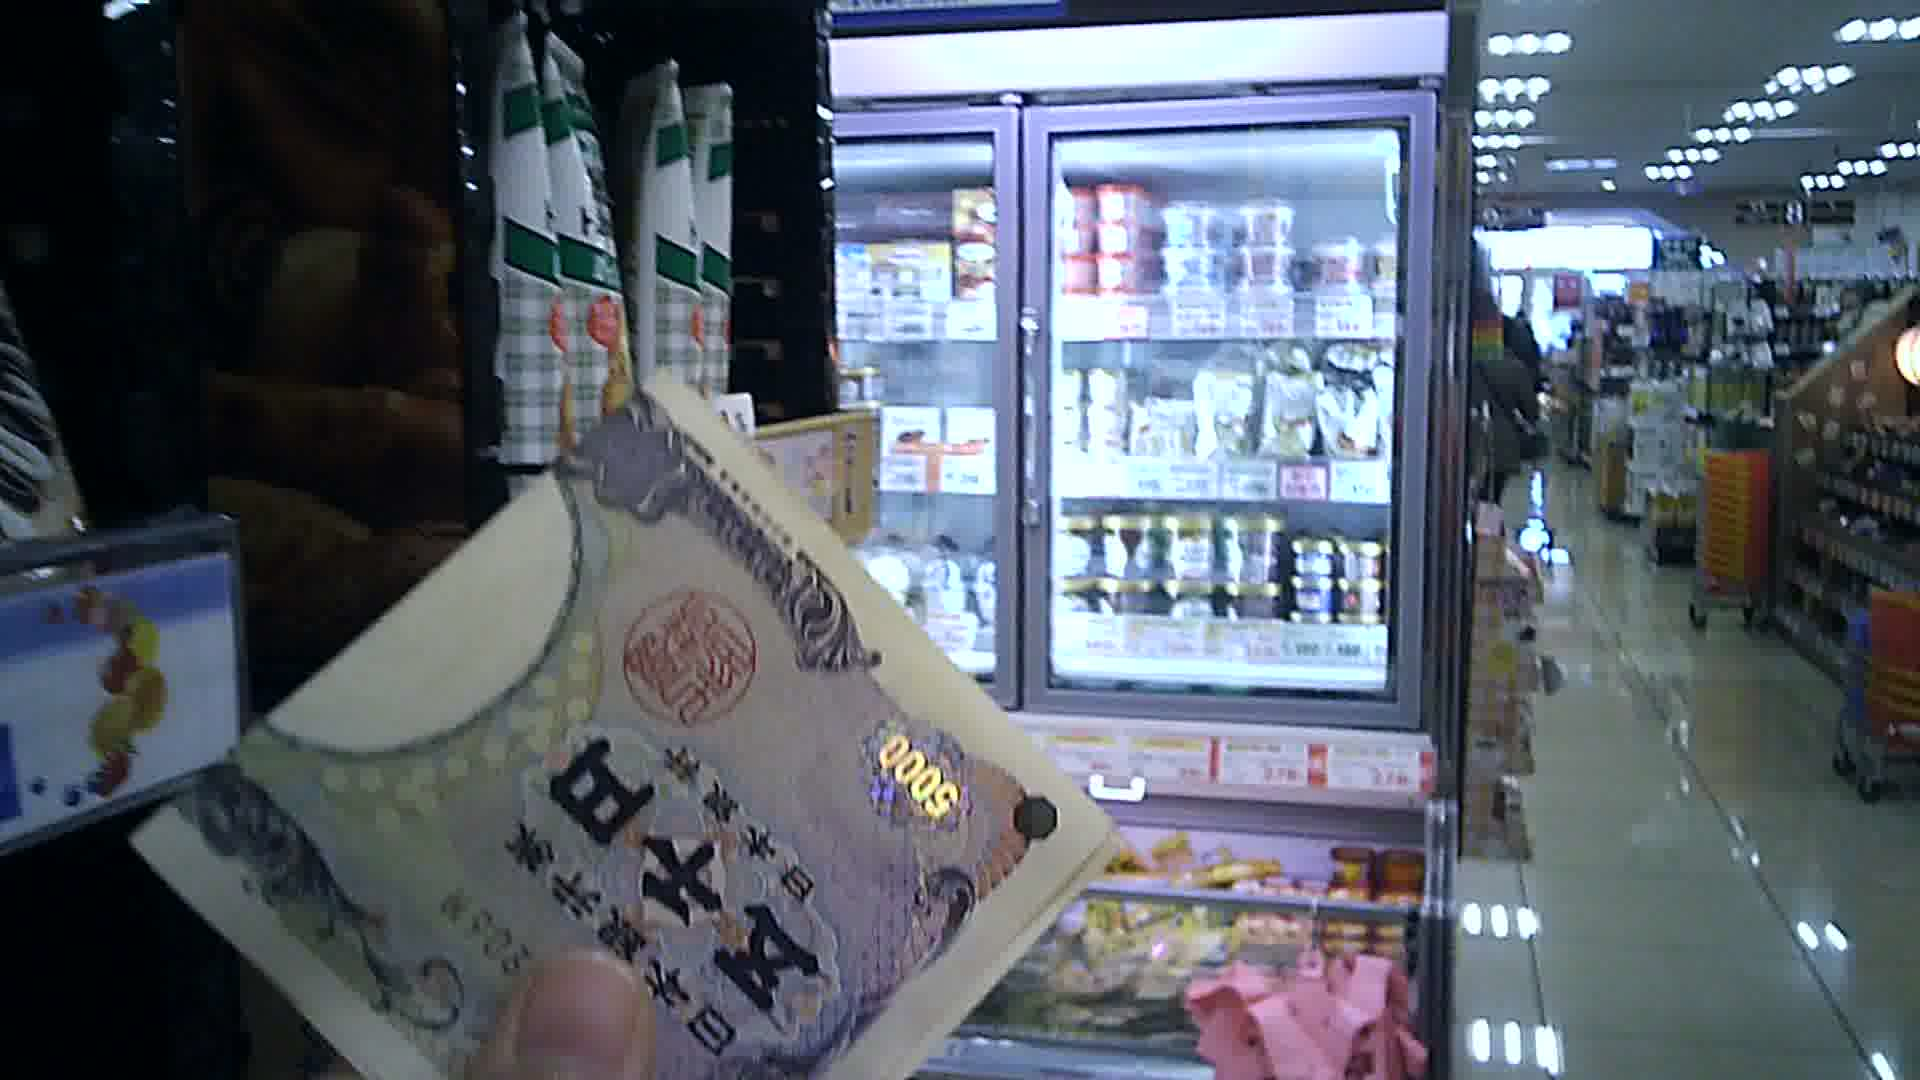5,000 Yen: (146, 381, 1081, 1064)
